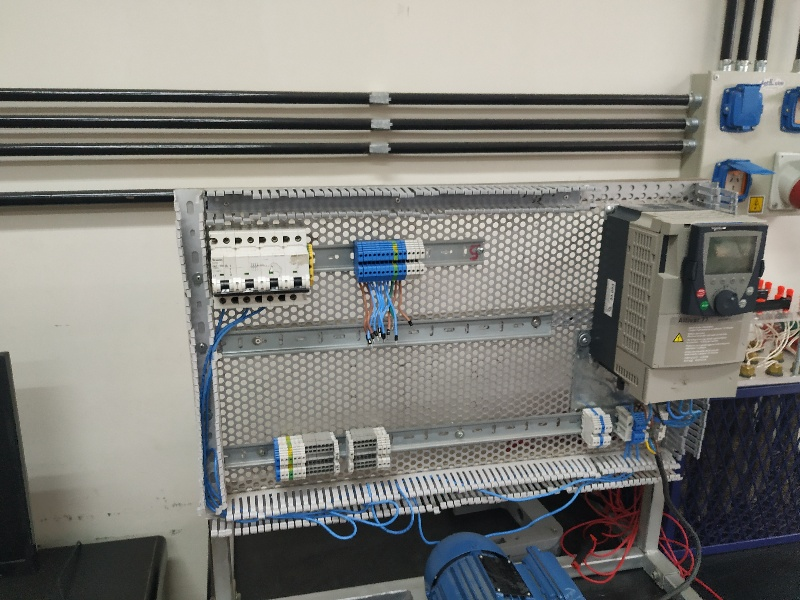Tablero 0: (190, 186, 768, 504)
